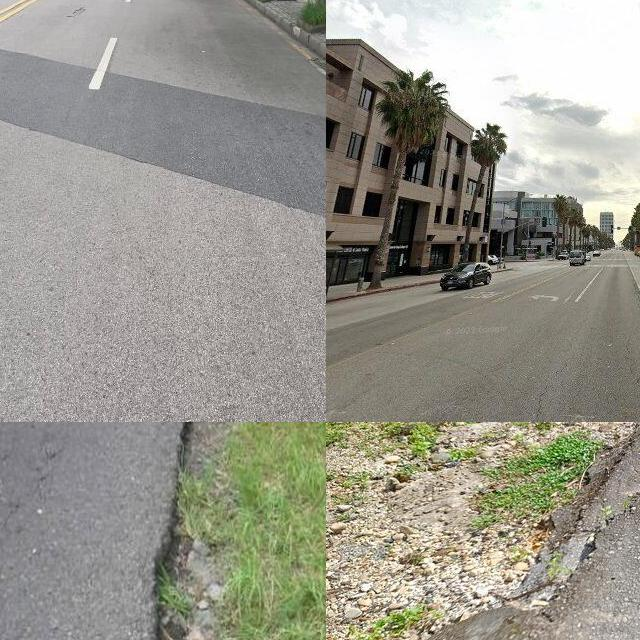Pinggir: (389, 422, 640, 640), (110, 422, 252, 640)
Sambungan: (0, 51, 326, 220)
